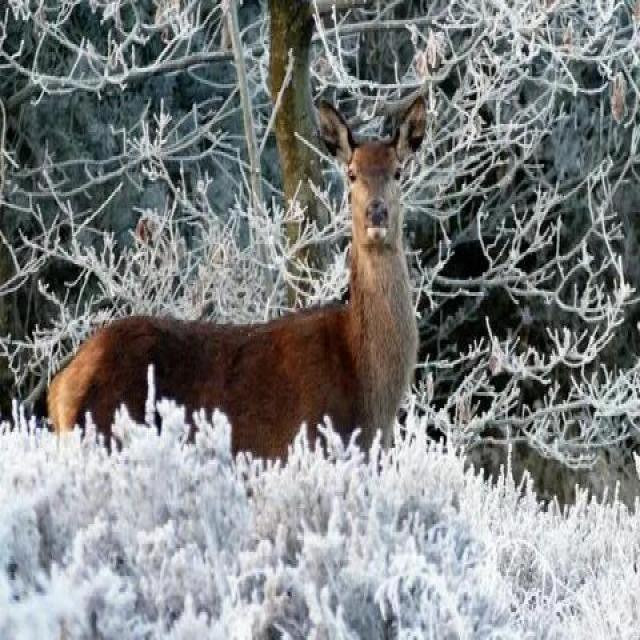deer: (85, 43, 458, 517)
